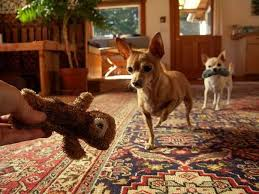chihuahua: (117, 31, 194, 149)
